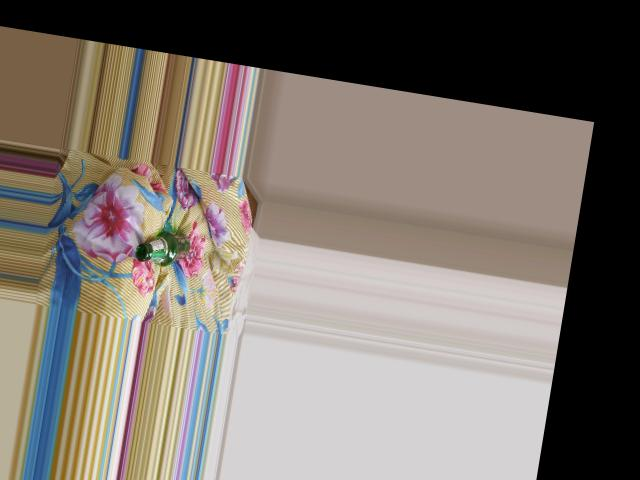beer: (134, 227, 191, 269)
